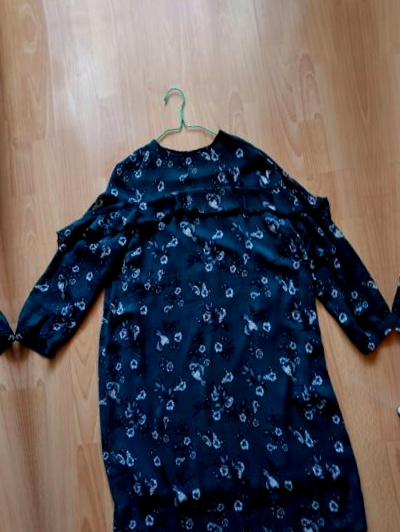Dress: (0, 88, 400, 532), (363, 41, 400, 532), (0, 137, 37, 532)
